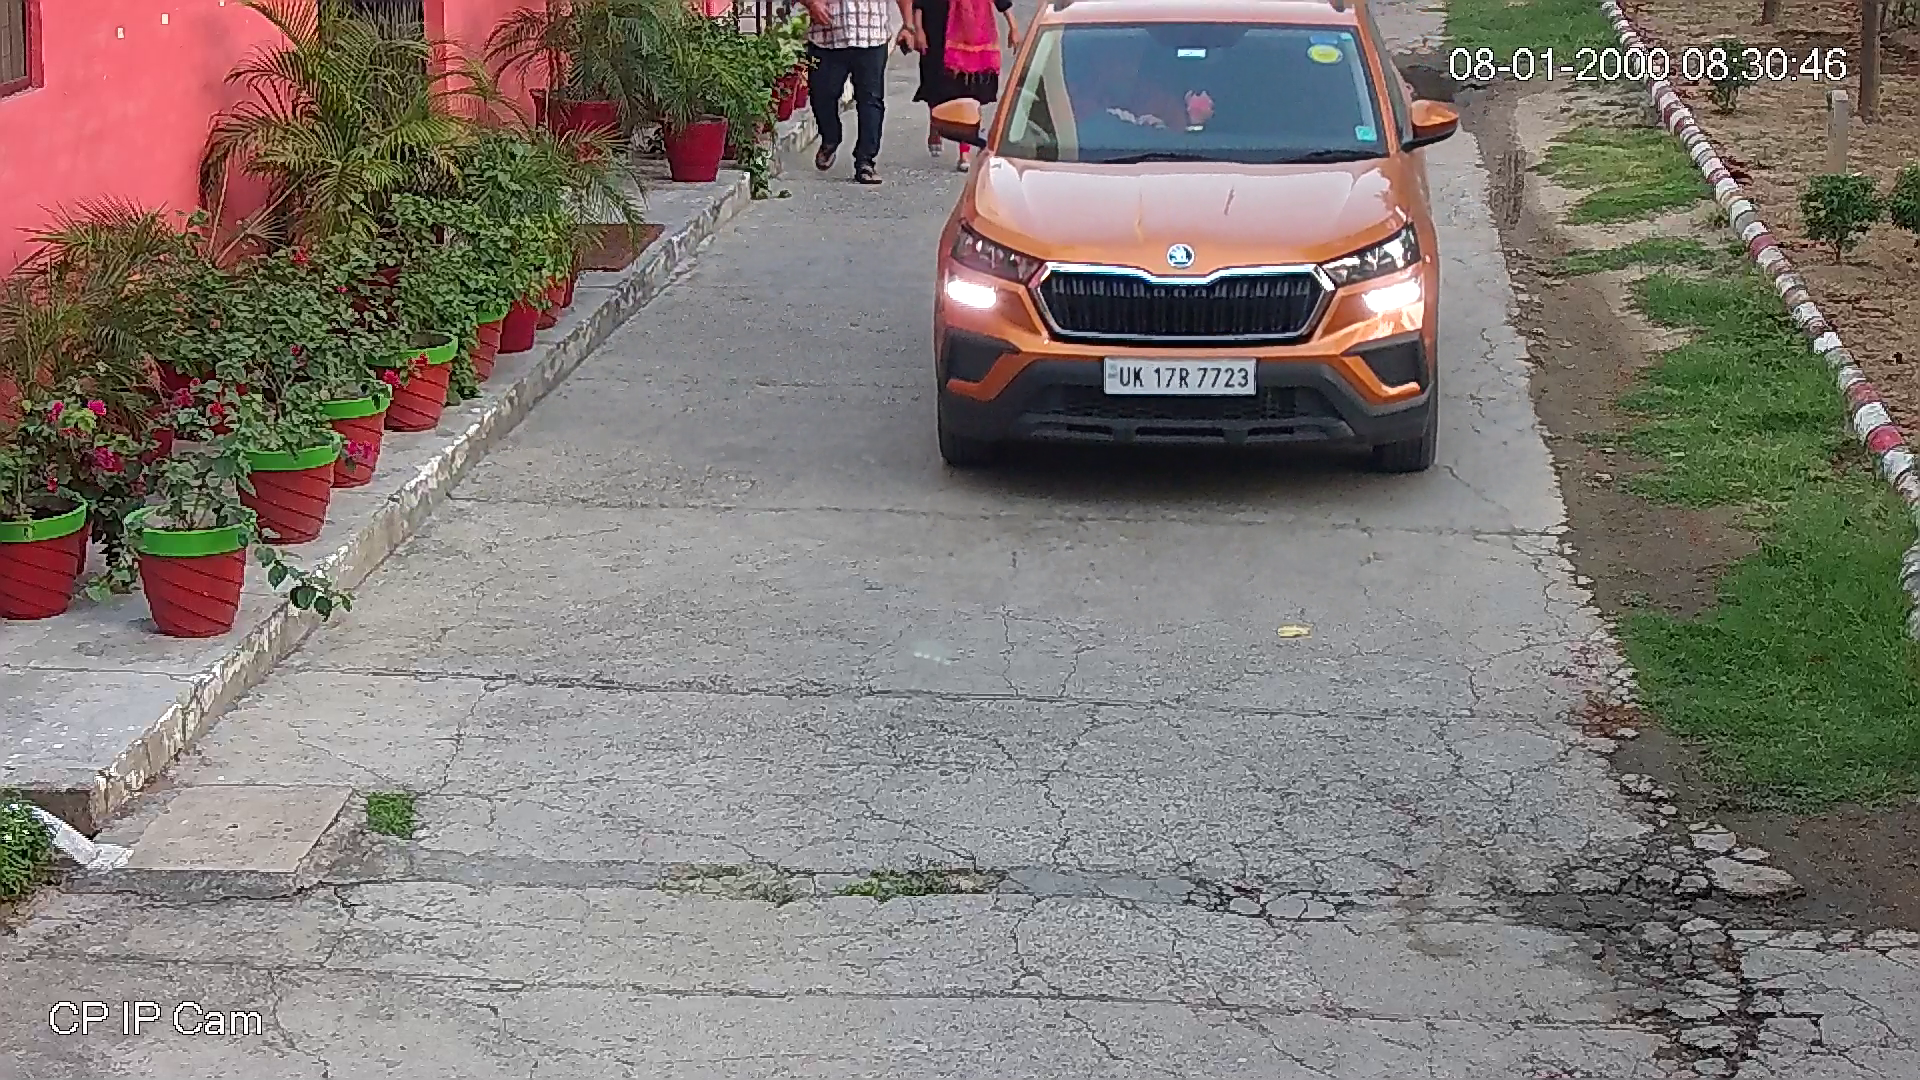plate: (1097, 349, 1267, 402)
